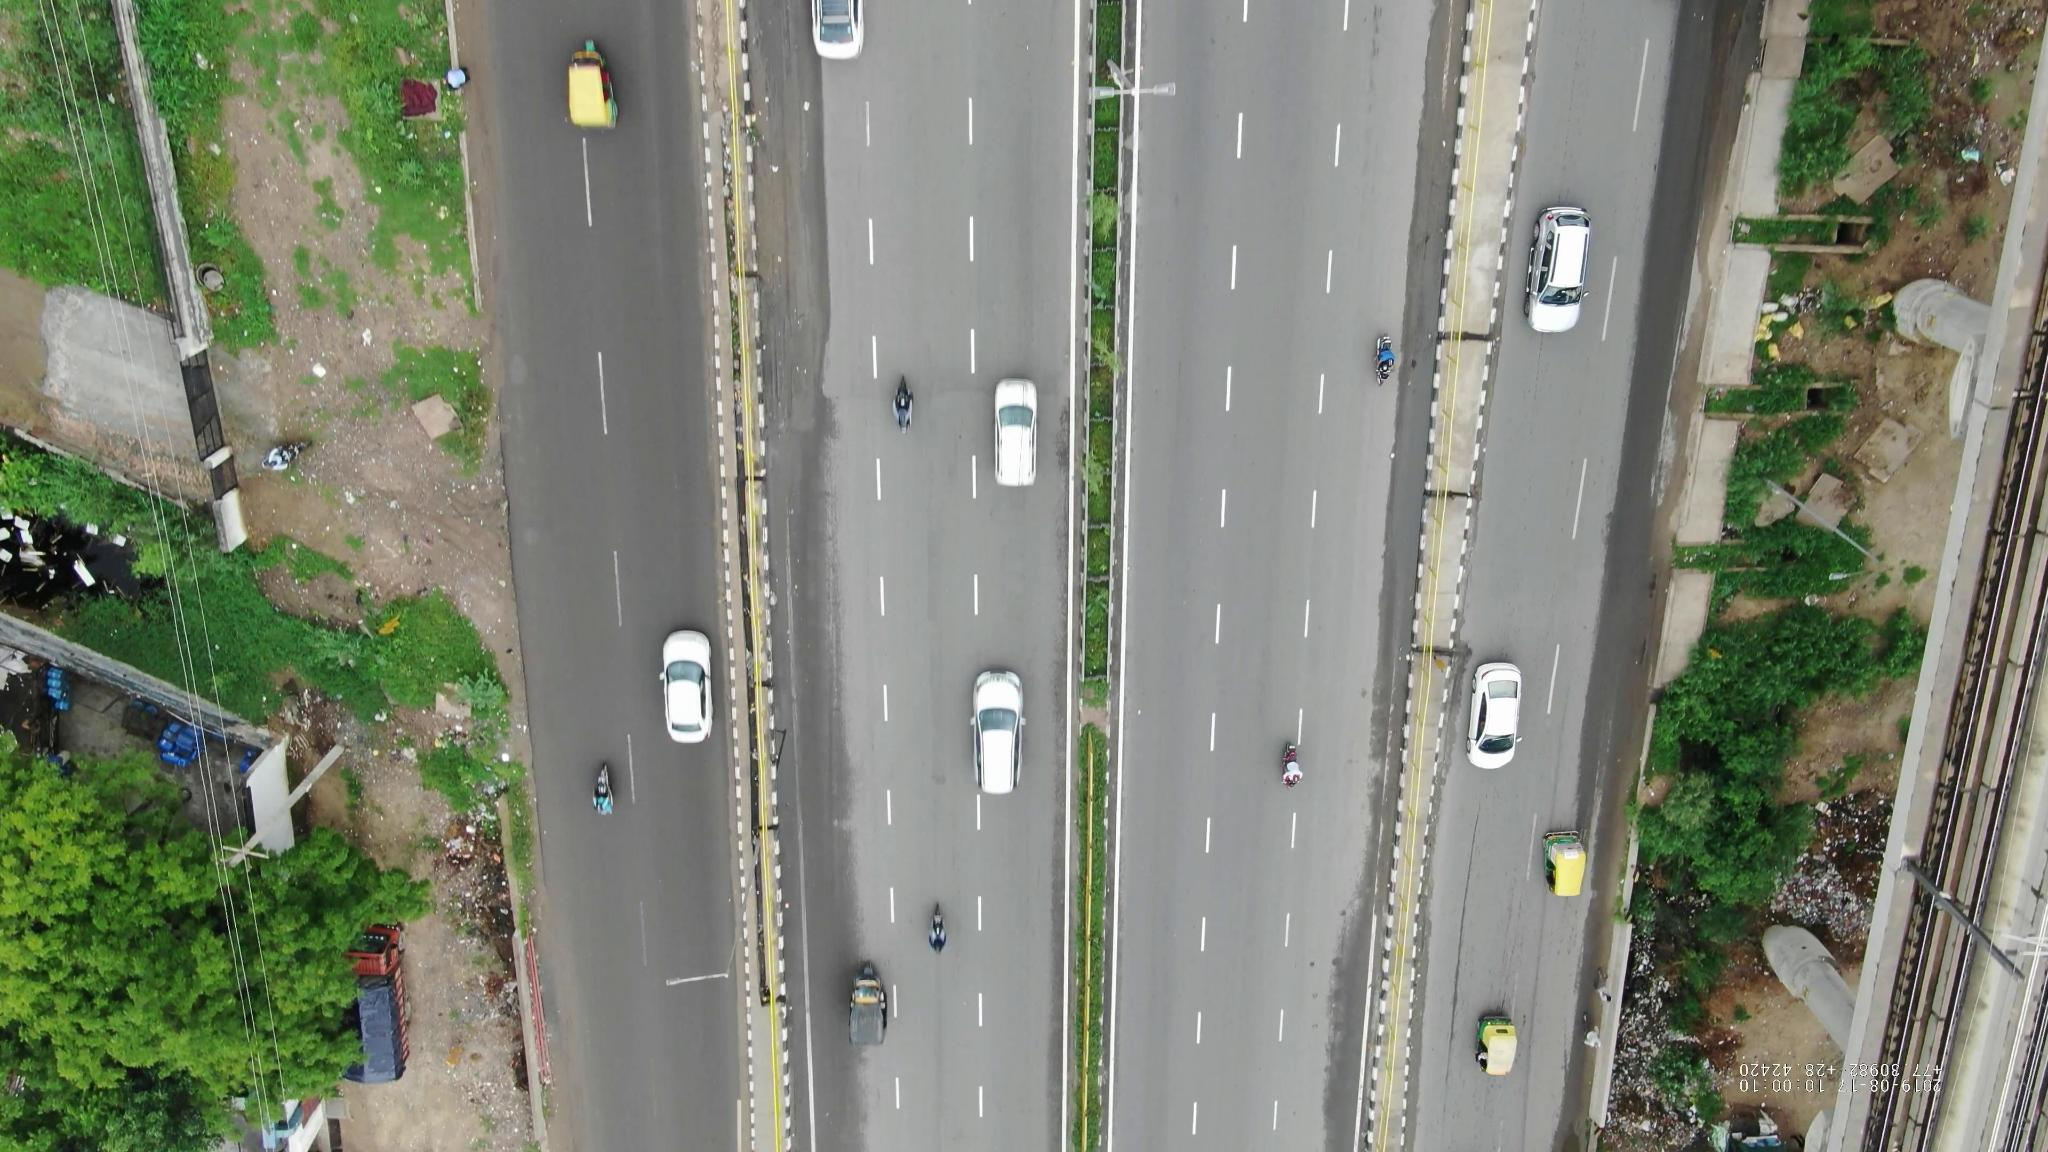Road_side_garbage: (1581, 897, 1741, 1145), (447, 805, 539, 1084)
